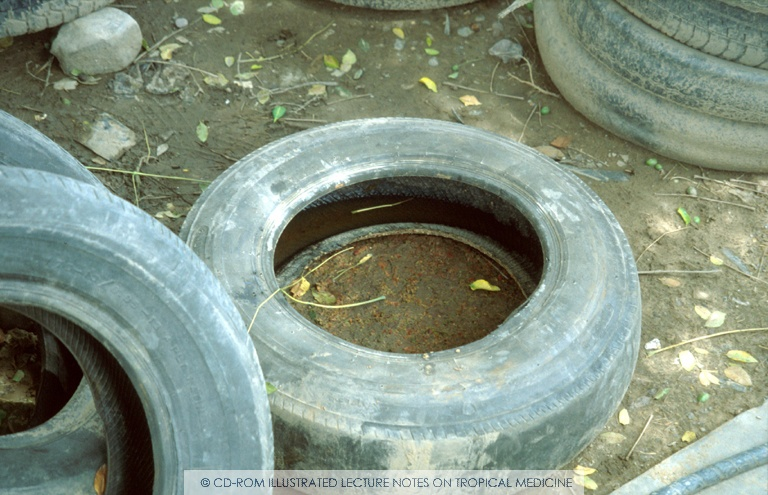tire: (166, 113, 643, 494), (1, 167, 278, 480)
